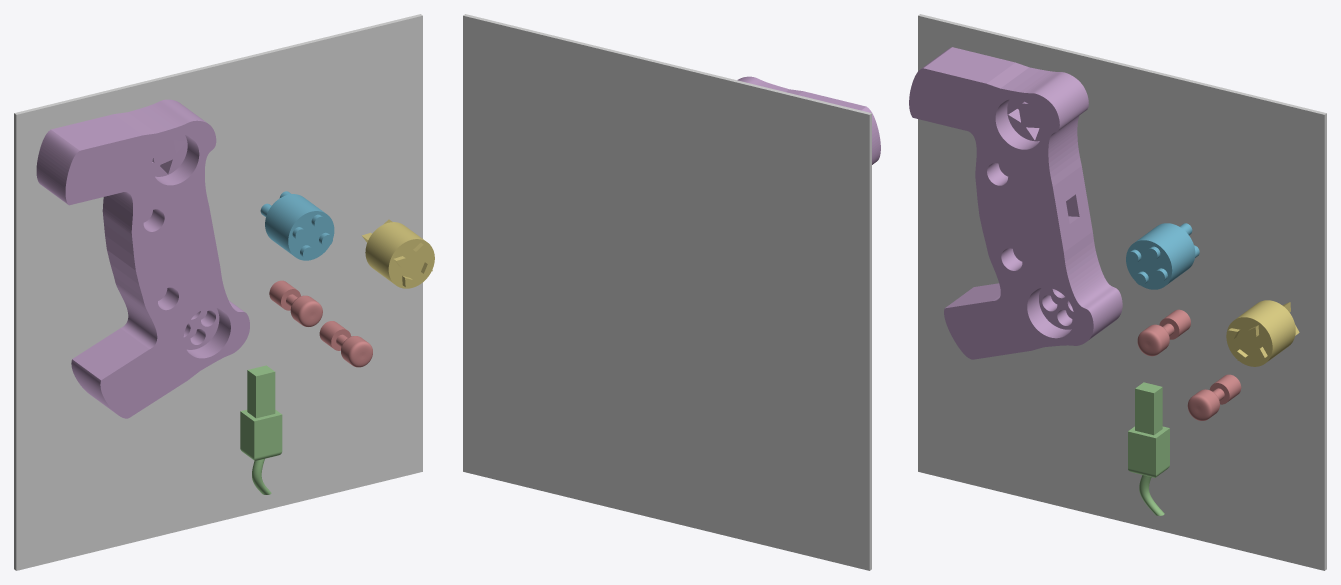
The model's file is pickup_layout.glb.
3 renders of one model, left to right at view 1: azimuth 30°, elevation 25°; view 2: azimuth 150°, elevation 25°; view 3: azimuth 330°, elevation 25°, orthographic.
Parts seen in each view (by area): view 1: world, 3.obj, 4.obj, 2.obj, 1.obj, 0.obj, 5.obj; view 2: world, 3.obj; view 3: world, 3.obj, 4.obj, 2.obj, 1.obj, 0.obj, 5.obj.
Part boxes in pixels (x1,y1,x2,y2): world: [14, 14, 422, 570]; 3.obj: [36, 99, 249, 418]; 4.obj: [240, 365, 282, 494]; 2.obj: [260, 191, 334, 260]; 1.obj: [362, 219, 434, 288]; 0.obj: [269, 280, 322, 326]; 5.obj: [319, 321, 372, 367]; world: [463, 14, 871, 570]; 3.obj: [737, 76, 880, 164]; world: [918, 14, 1326, 570]; 3.obj: [909, 47, 1122, 359]; 4.obj: [1128, 382, 1169, 515]; 2.obj: [1126, 223, 1199, 289]; 1.obj: [1226, 300, 1299, 366]; 0.obj: [1137, 309, 1190, 356]; 5.obj: [1187, 374, 1241, 420].
Size of the model in its own units: 20.24 by 21.7 by 3.2.
